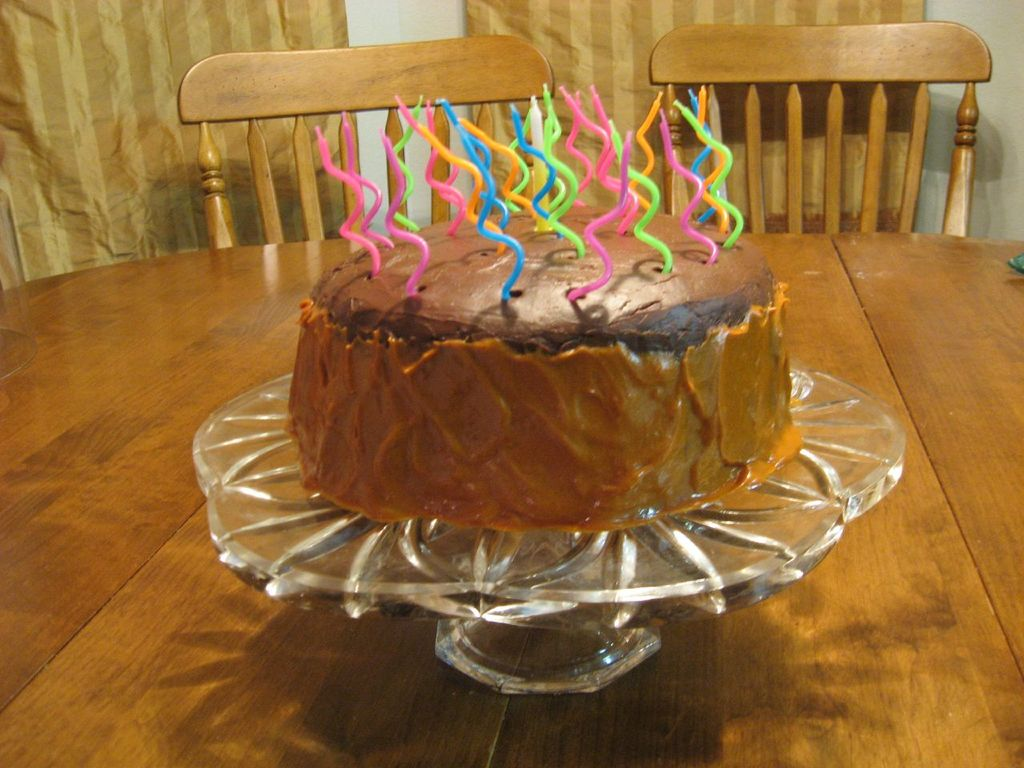cake: (286, 198, 814, 534)
